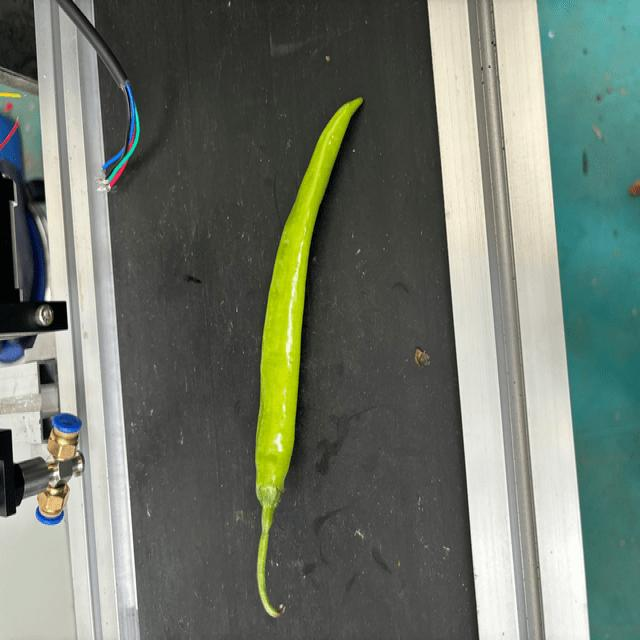chili: (253, 95, 365, 510)
